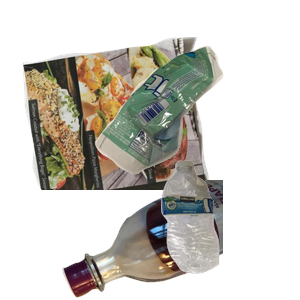glass: (60, 180, 300, 300)
paper: (20, 34, 221, 214)
plastic: (159, 158, 300, 300)
trash: (92, 44, 300, 211)
